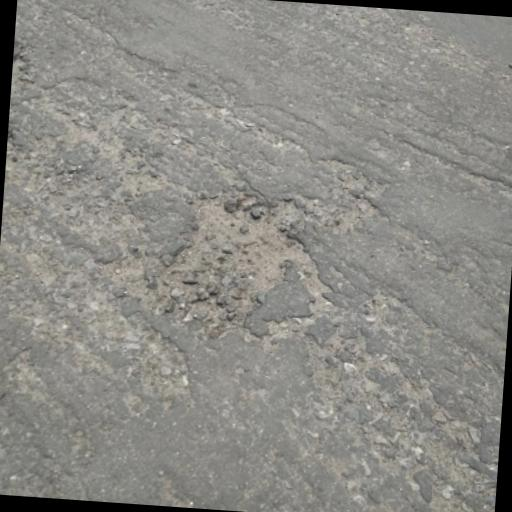pothole: (154, 180, 324, 336)
